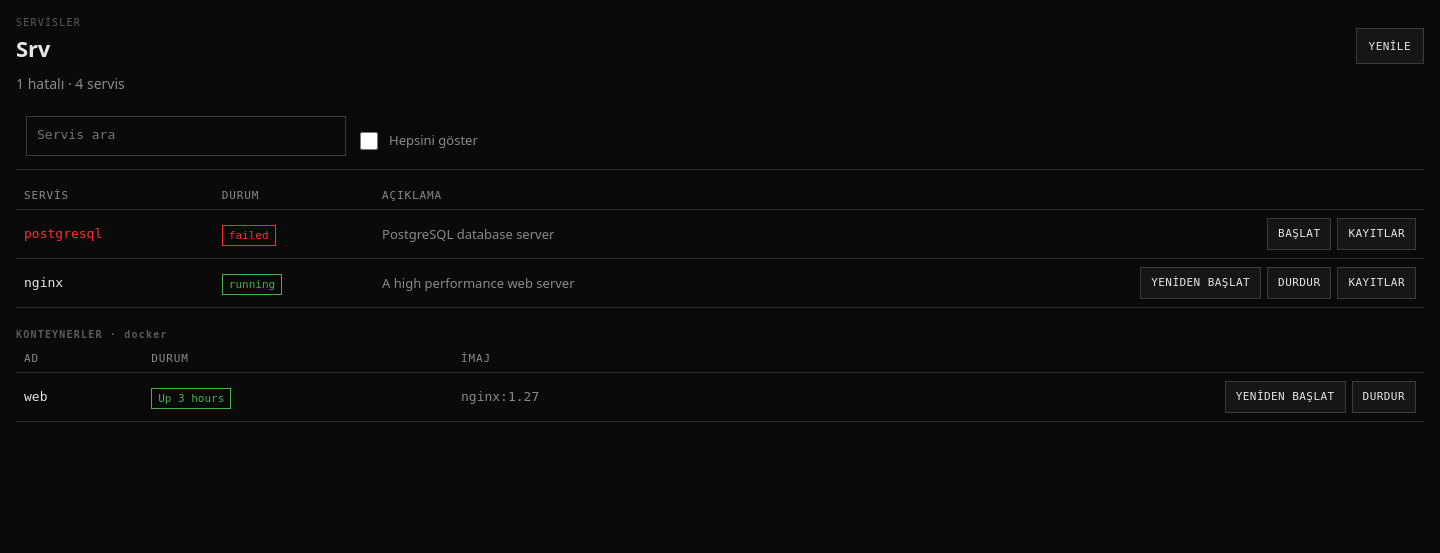
ServicesView › opens the journal for a service inline
Click the button "Kayıtlar" in the row of "failed".
click(1377, 234)  # box [1338,218,1416,250]
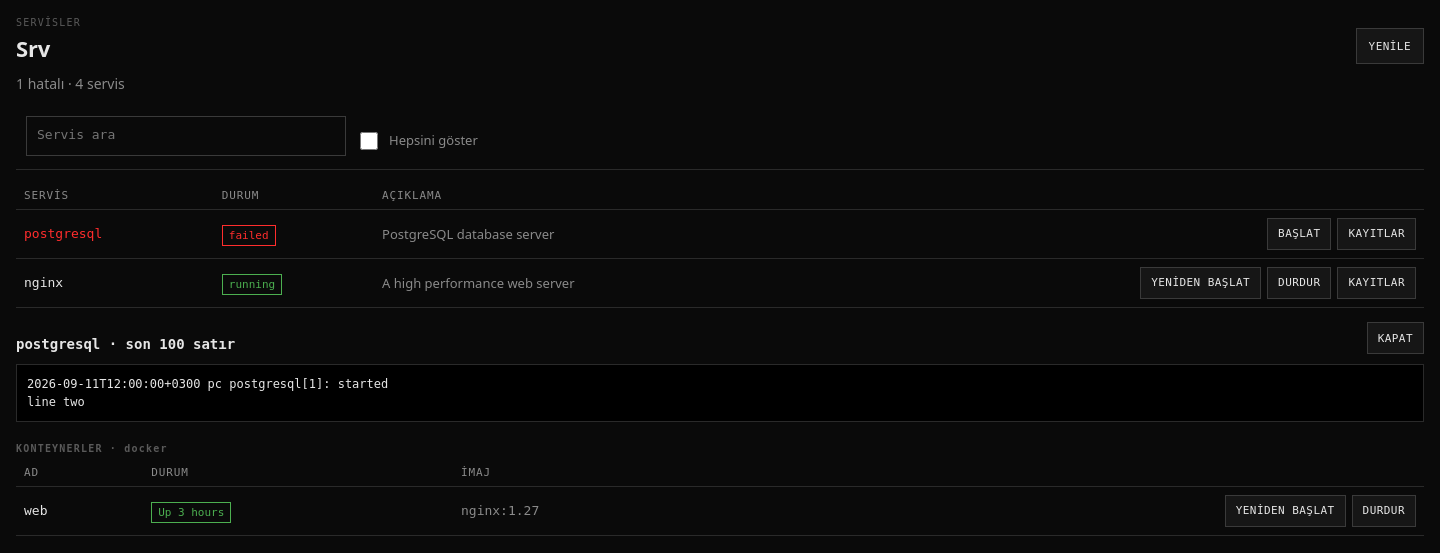
Now the text "2026-09-11T12:00:00+0300 pc postgresql[1]: started line two" is shown, box [16,364,1424,422]
